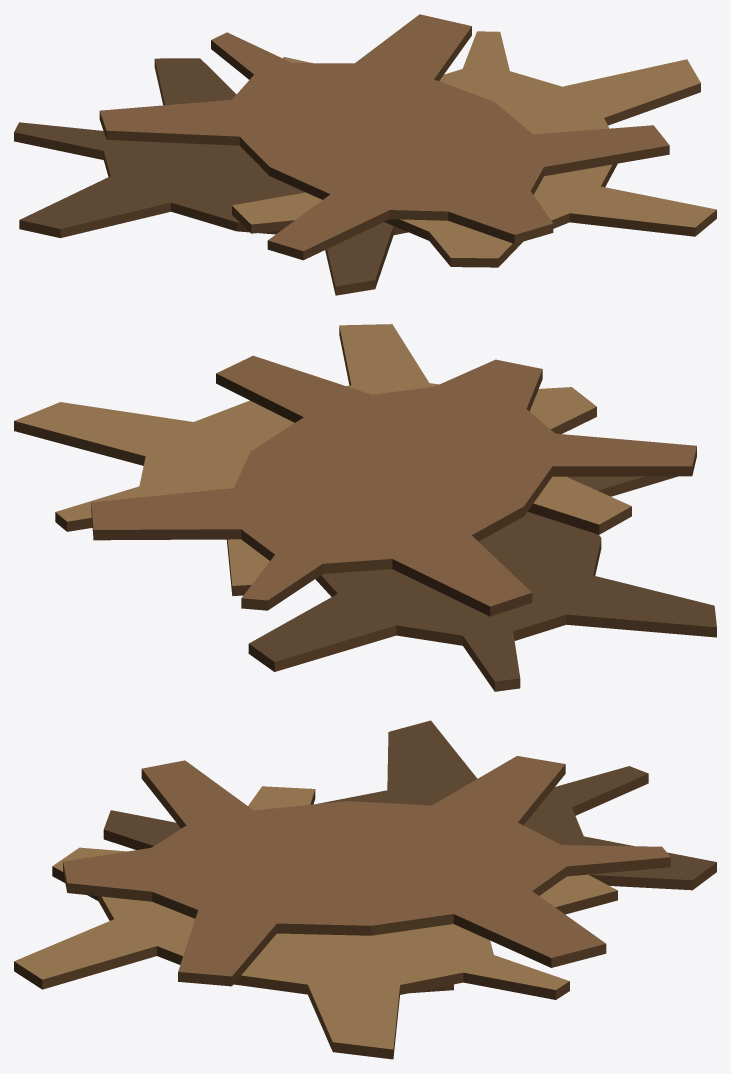
Rendered from storage_hide.glb.
The picture shows the model from 3 angles, top to bottom: view 1: azimuth 30°, elevation 25°; view 2: azimuth 150°, elevation 25°; view 3: azimuth 270°, elevation 25°; orthographic projection. The views are drawn at different scales.
Parts seen in each view (by area): view 1: storage_hide; view 2: storage_hide; view 3: storage_hide.
Part boxes in pixels (x1,y1,x2,y2): storage_hide: [14, 14, 716, 295]; storage_hide: [14, 324, 716, 691]; storage_hide: [14, 720, 716, 1059].
Size of the model in its own units: 1.86 by 0.105 by 1.6.
